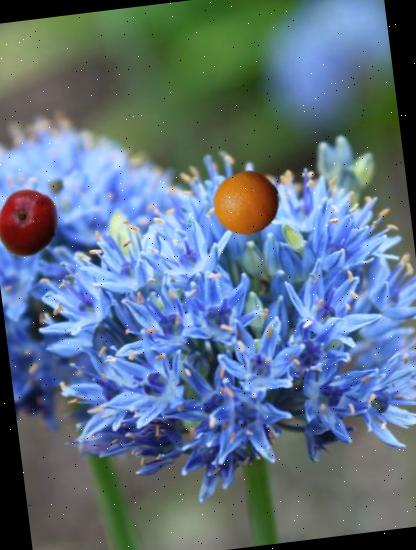Mango: (0, 184, 66, 262)
Orange: (209, 167, 284, 241)
